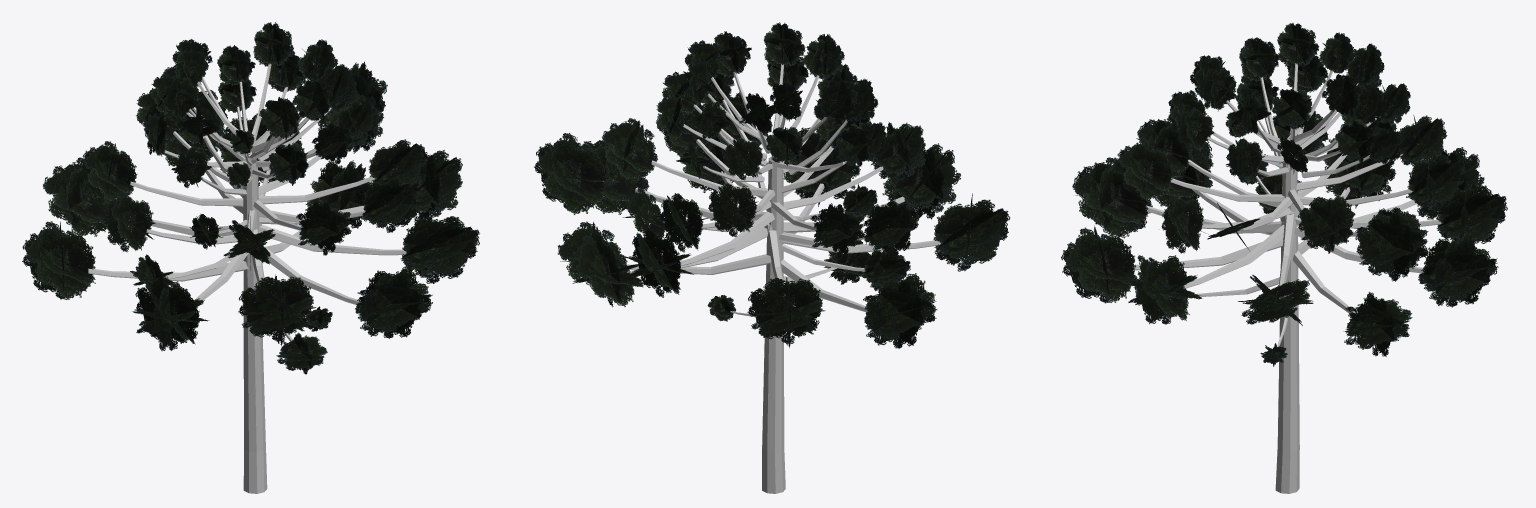
Rendered from teste araucaria v2.fbx.
3 renders of one model, left to right at view 1: azimuth 30°, elevation 25°; view 2: azimuth 150°, elevation 25°; view 3: azimuth 270°, elevation 25°, orthographic.
Visible parts, largest first — view 1: Cylinder.001; view 2: Cylinder.001; view 3: Cylinder.001.
Part boxes in pixels (<box>): Cylinder.001: <box>22,22,479,493</box>; Cylinder.001: <box>534,22,1010,493</box>; Cylinder.001: <box>1061,23,1507,493</box>.
Size of the model in its own units: 4014 by 4032 by 3863.
